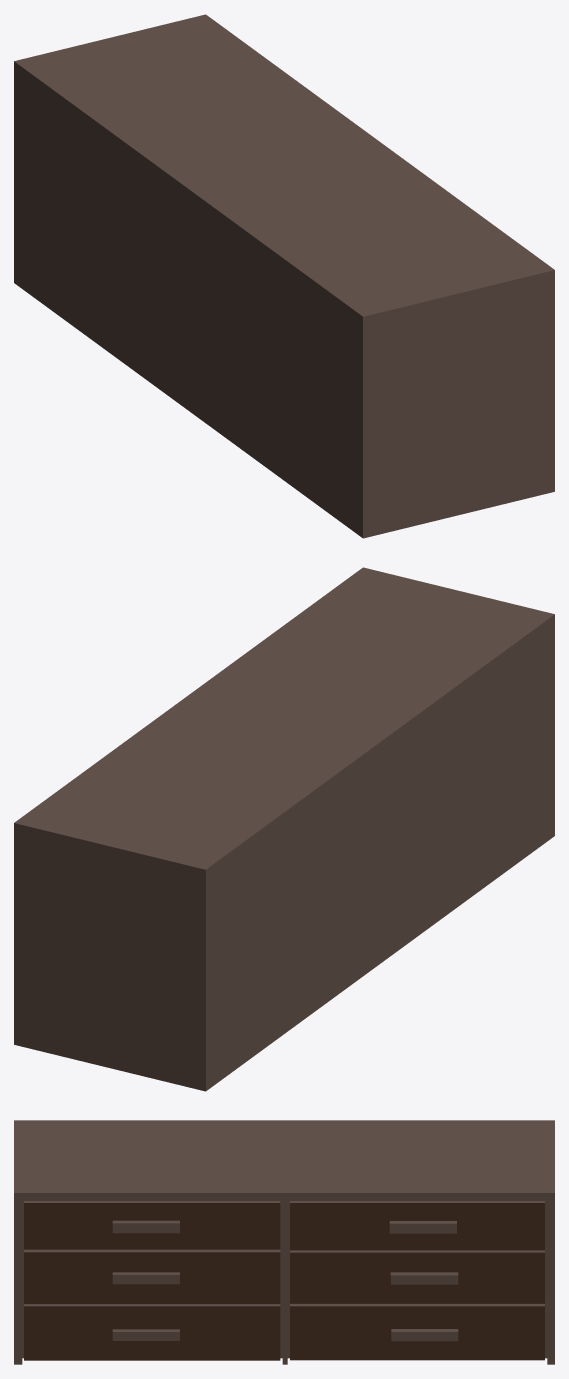
File: AP_dresser02_TL.fbx
3 views of the same model, one above another, from view 1: azimuth 30°, elevation 25°; view 2: azimuth 150°, elevation 25°; view 3: azimuth 270°, elevation 25° (orthographic). The views are drawn at different scales.
Visible parts, largest first — view 1: pCube1; view 2: pCube1; view 3: pCube1.
Part boxes in pixels (bbox=[...]): pCube1: bbox=[14, 14, 554, 538]; pCube1: bbox=[14, 567, 554, 1091]; pCube1: bbox=[14, 1120, 554, 1364].
Size of the model in its own units: 7.79 by 8.61 by 24.56.
